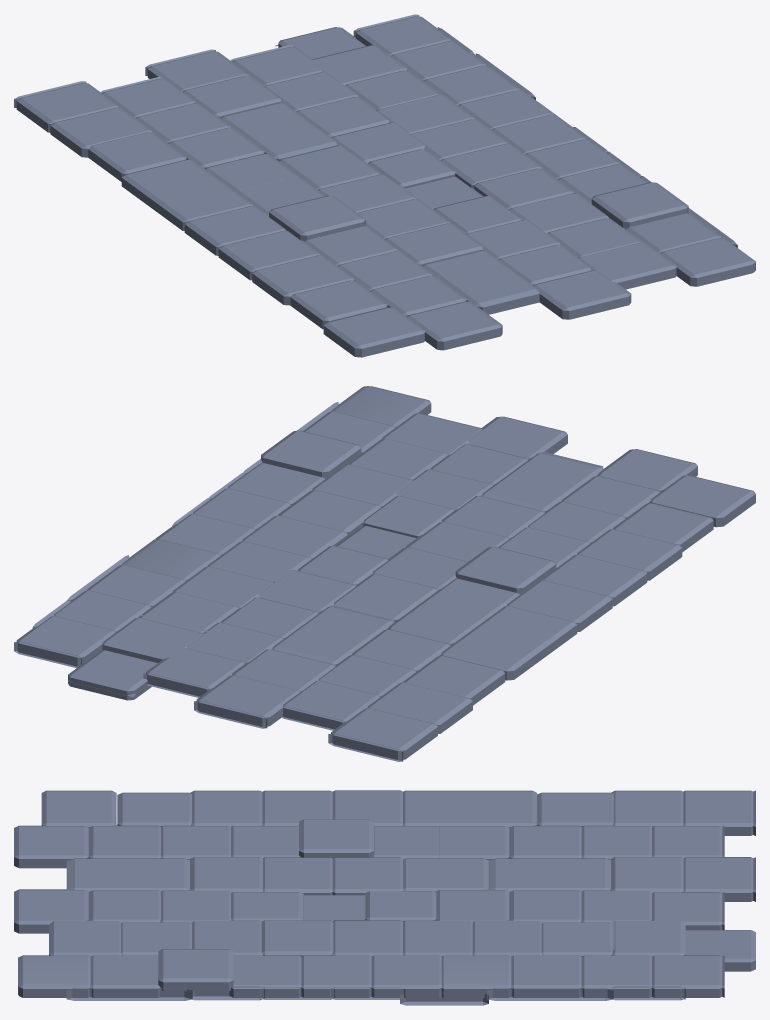
The model's file is stonefloor.fbx.
The picture shows the model from 3 angles, top to bottom: view 1: azimuth 30°, elevation 25°; view 2: azimuth 150°, elevation 25°; view 3: azimuth 270°, elevation 25°; orthographic projection. The views are drawn at different scales.
Visible parts, largest first — view 1: floor; view 2: floor; view 3: floor.
Boxes of the visible parts, box(x1,y1,x2,y2) form: floor: box(14, 14, 755, 357); floor: box(14, 386, 755, 761); floor: box(14, 790, 755, 1005).
Bounding box in the file's own units: 3993 × 237 × 6259.
